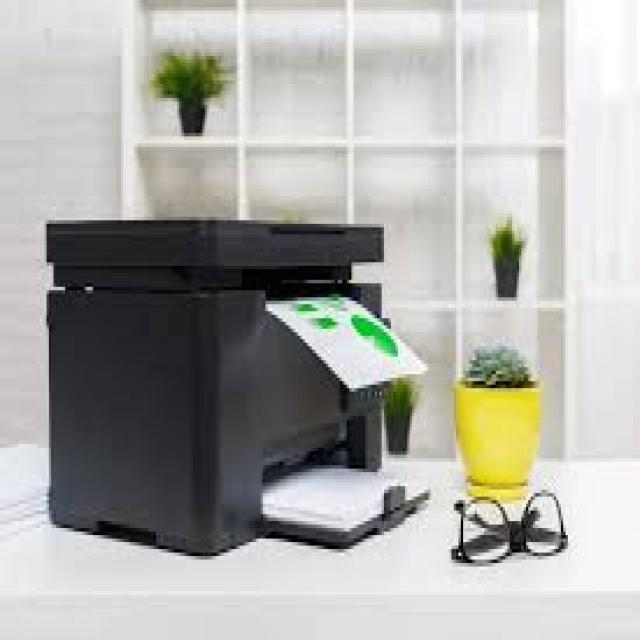printer: (42, 217, 428, 556)
